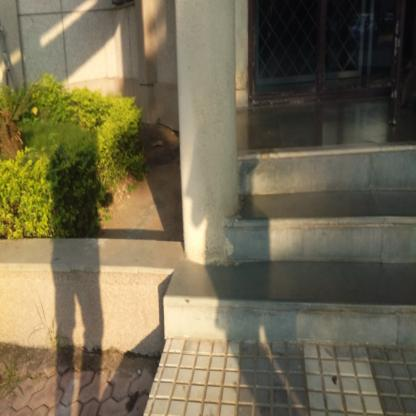stairs: (243, 142, 415, 355)
